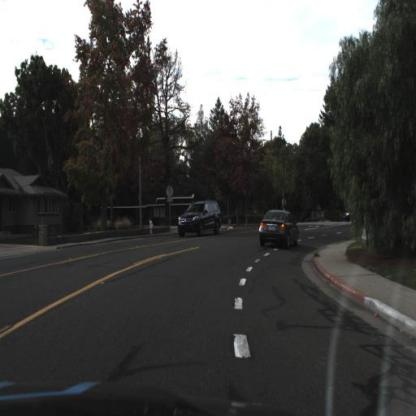car: (256, 207, 301, 254), (174, 197, 224, 237), (342, 204, 354, 226)
